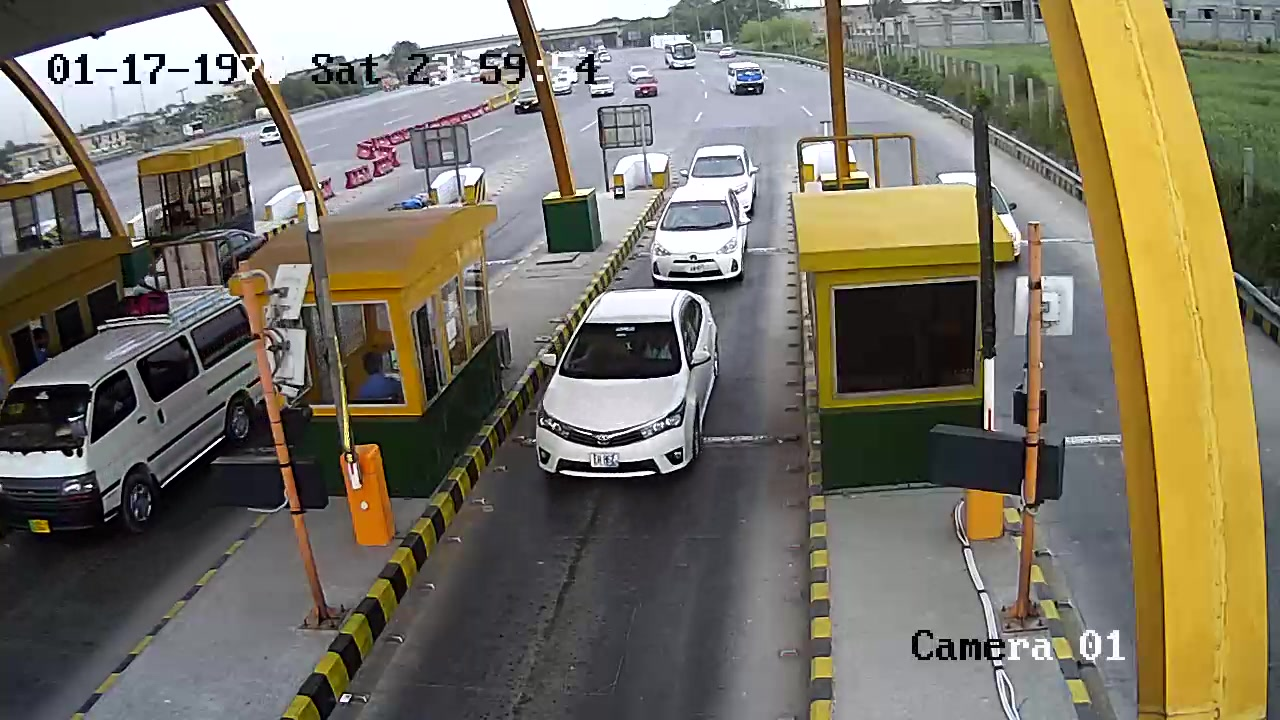F1: (528, 289, 719, 503)
